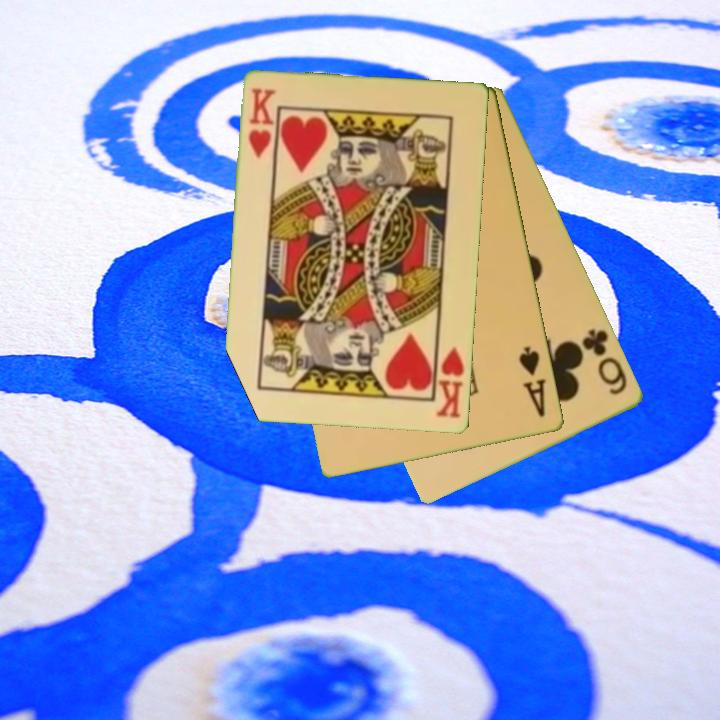6c: (578, 325, 631, 398)
As: (516, 343, 550, 421)
Kh: (431, 338, 468, 422), (245, 85, 278, 162)
